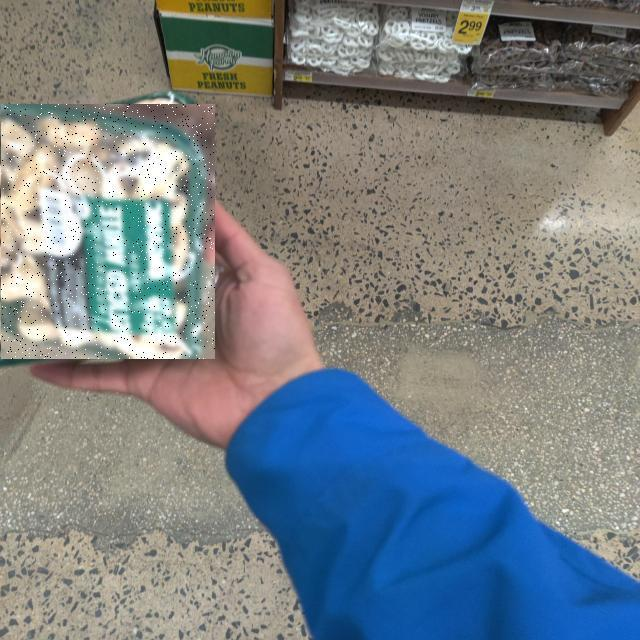Mushroom: (1, 104, 215, 359)
